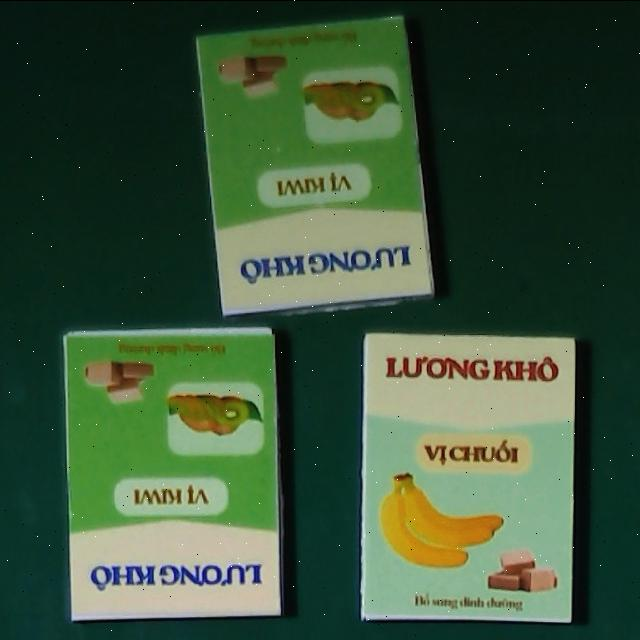chuoi: (359, 332, 577, 623)
kiwi: (192, 14, 435, 322), (64, 325, 283, 619)
